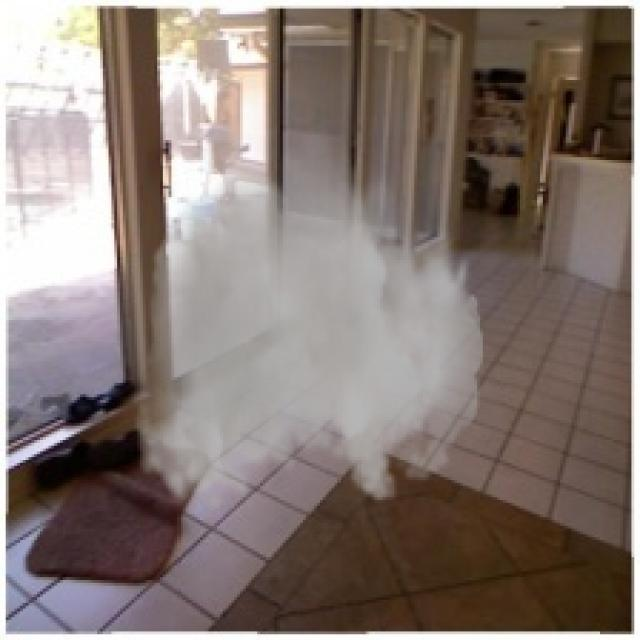Smoke: (134, 120, 483, 514)
